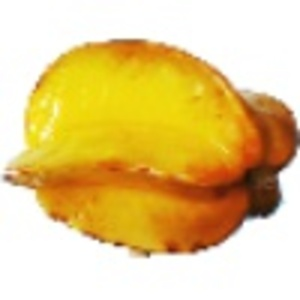carambola: (2, 38, 300, 260)
